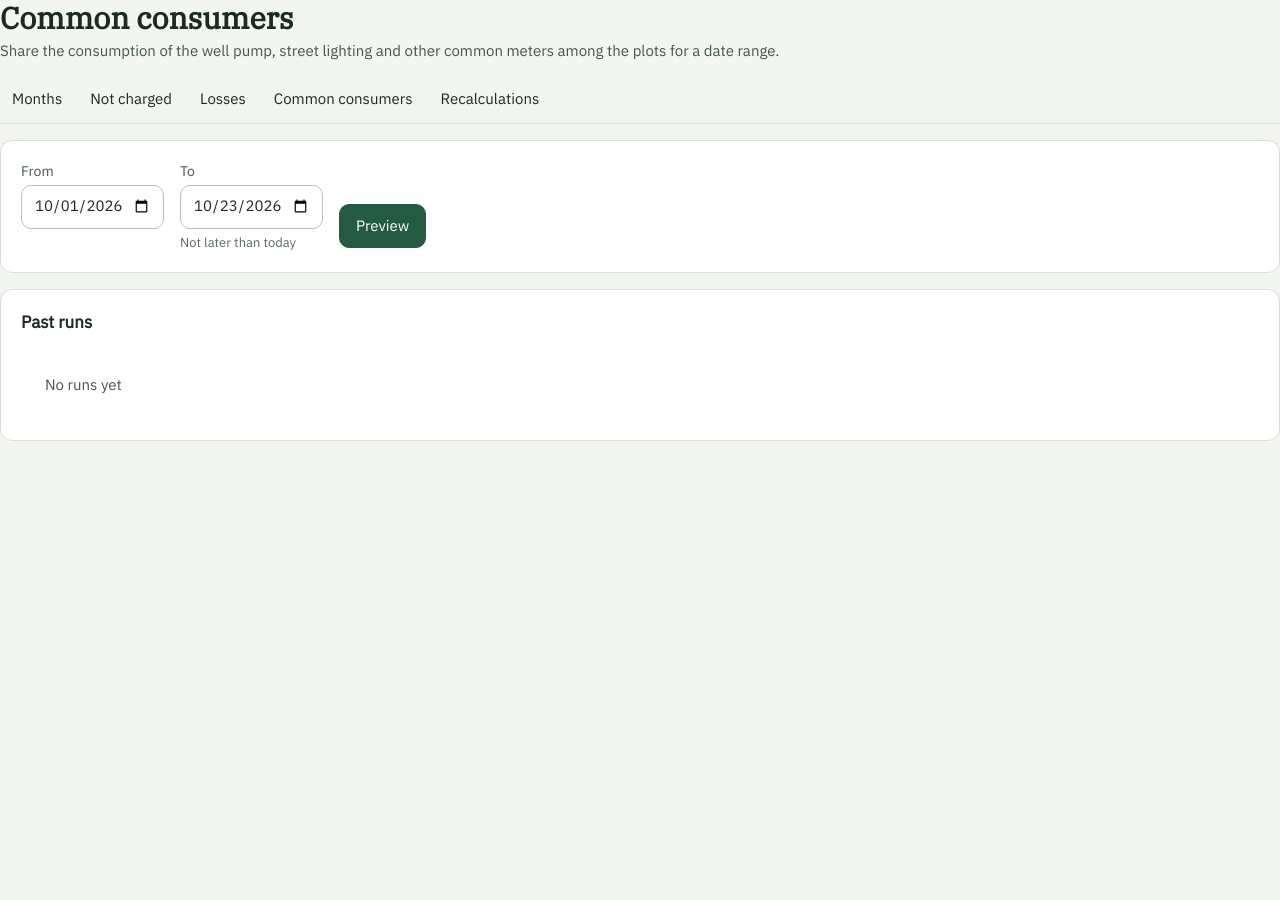
CommonConsumersPage › shows the refusal of a booking without a tariff
Click the button "Preview".
click(383, 226)  # box [339,204,426,248]
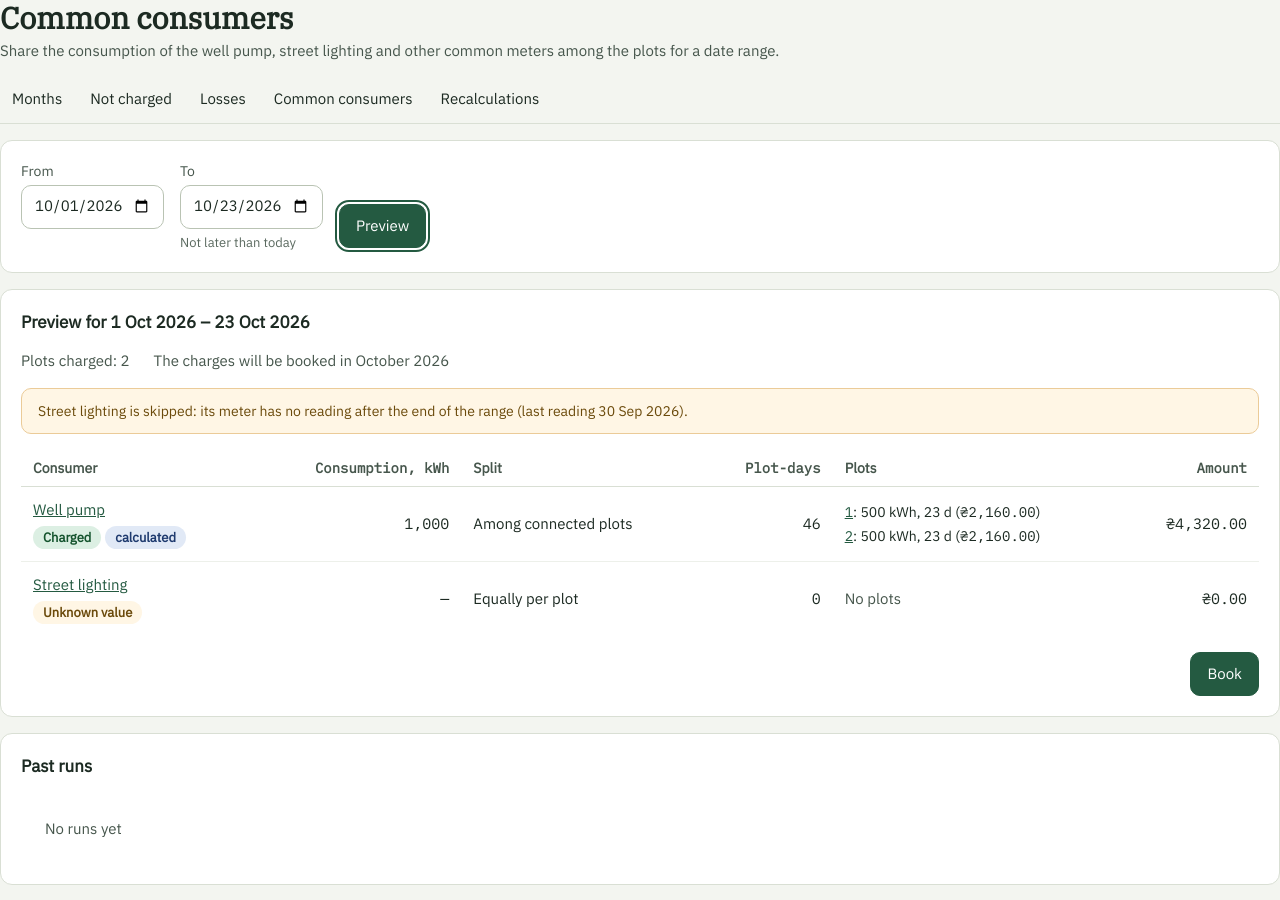
Click the button "Book".
click(1225, 674)  # box [1190,652,1259,696]
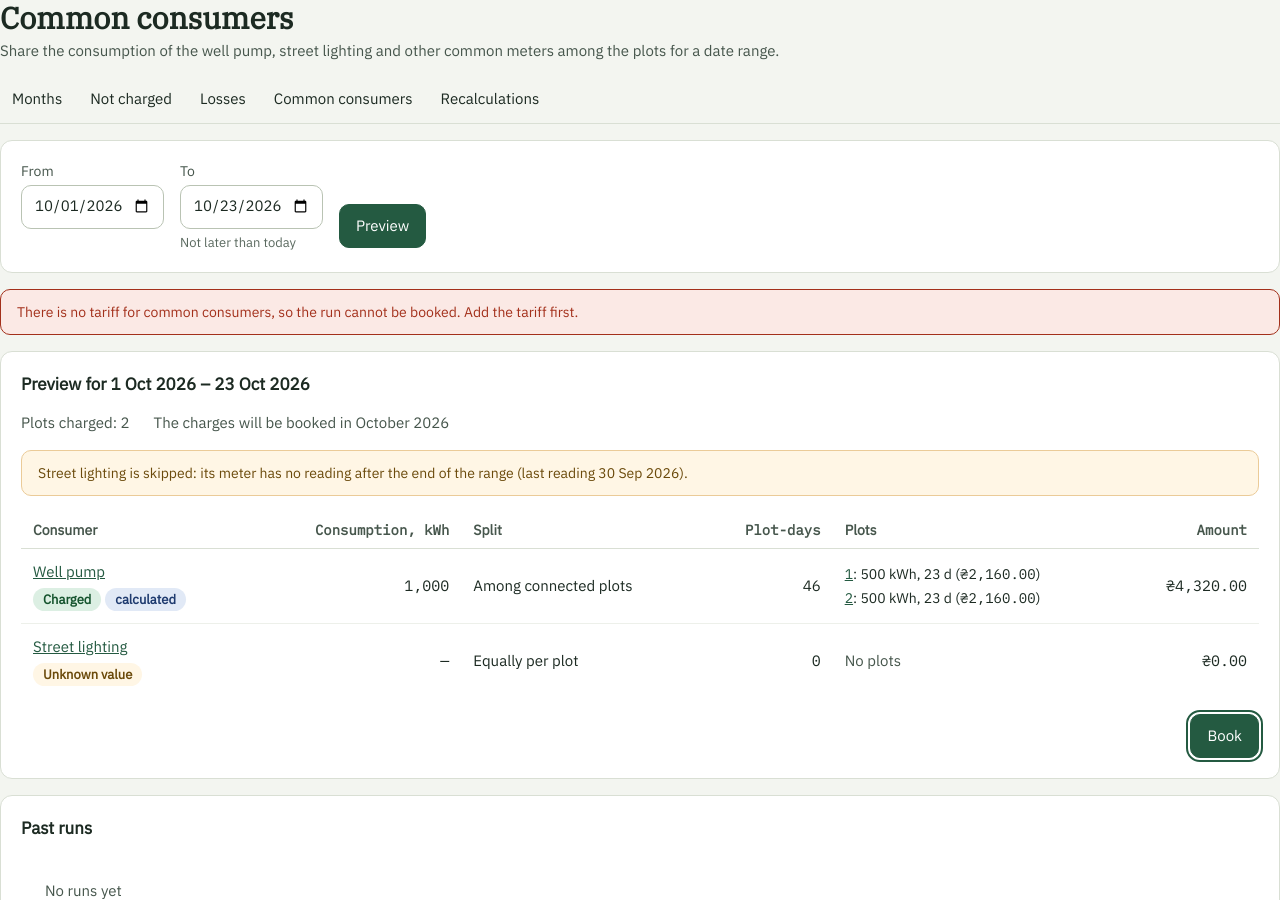
Expected: the 1st message shows "There is no tariff for common consumers", [17,303,578,321]
